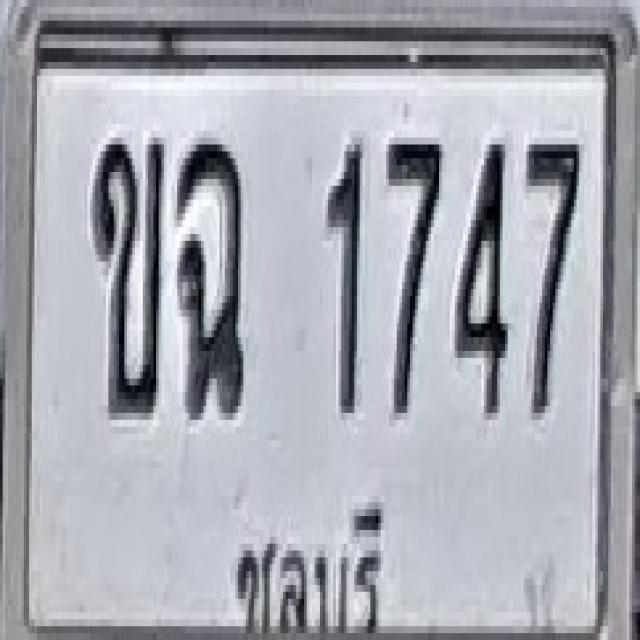1: (326, 138, 362, 413)
4: (454, 138, 509, 413)
7: (386, 134, 442, 416), (525, 138, 580, 413)
A02: (90, 134, 164, 416)
A09: (176, 134, 244, 416)
CBI: (229, 487, 395, 640)
